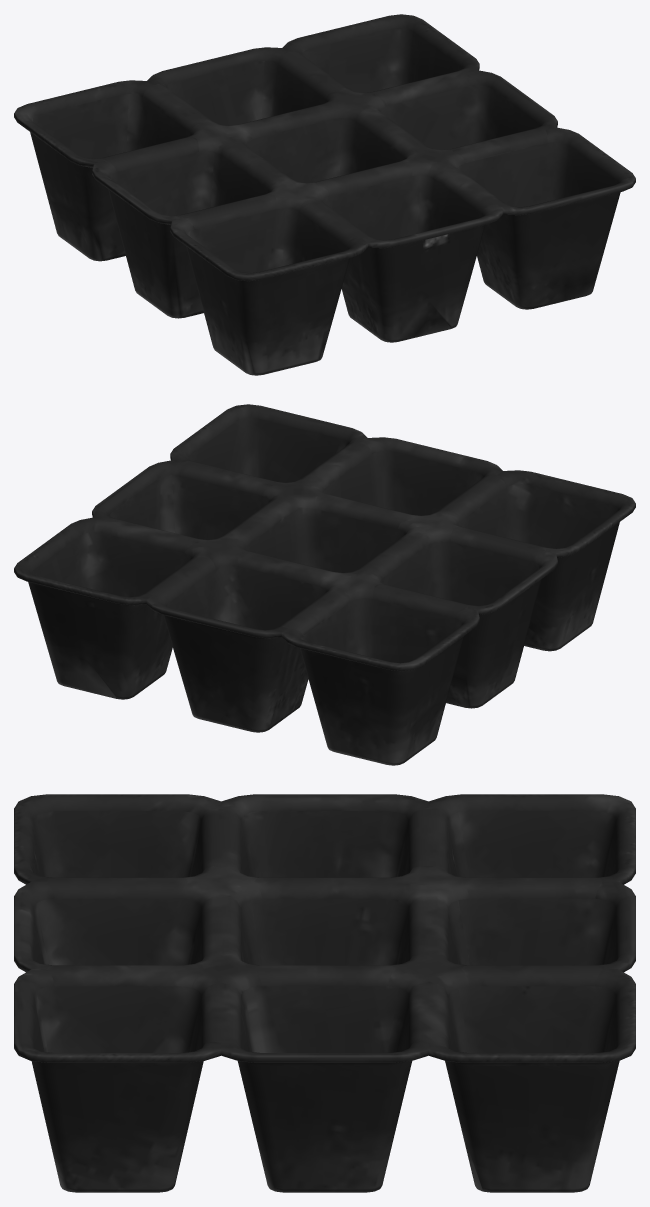
Rendered from seeding_tray_01.044357f1.glb.
3 views of the same model, one above another, from view 1: azimuth 30°, elevation 25°; view 2: azimuth 150°, elevation 25°; view 3: azimuth 270°, elevation 25° (orthographic). The views are drawn at different scales.
Parts seen in each view (by area): view 1: seeding_tray_01; view 2: seeding_tray_01; view 3: seeding_tray_01.
Boxes of the visible parts, x1=… form: seeding_tray_01: x1=14, y1=14, x2=635, y2=375; seeding_tray_01: x1=14, y1=404, x2=635, y2=765; seeding_tray_01: x1=14, y1=794, x2=635, y2=1192.
Bounding box in the file's own units: 0.72 × 0.1987 × 0.72.
1 material, 1 textured.
